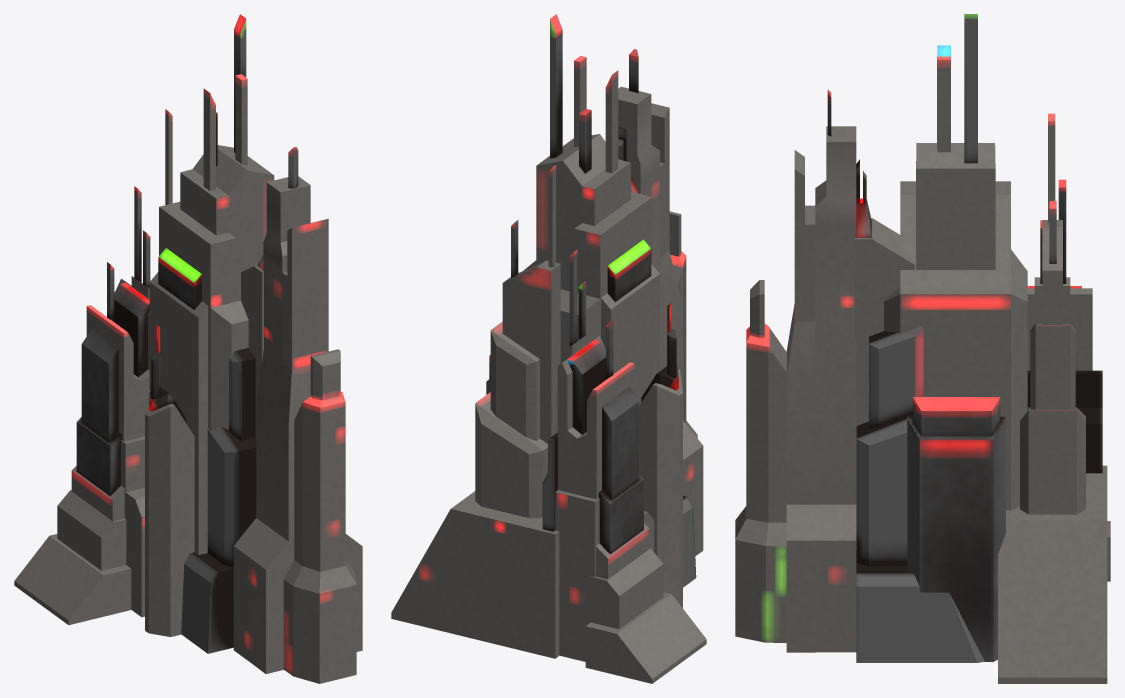
Rendered from SM_BackgroundBuilding_025.fbx.
3 views of the same model, side by side, from view 1: azimuth 30°, elevation 25°; view 2: azimuth 150°, elevation 25°; view 3: azimuth 270°, elevation 25° (orthographic). The views are drawn at different scales.
Visible parts, largest first — view 1: SM_BackgroundBuilding_025_LOD0; view 2: SM_BackgroundBuilding_025_LOD0; view 3: SM_BackgroundBuilding_025_LOD0.
Part boxes in pixels (box(x1,y1,x2,y2)): SM_BackgroundBuilding_025_LOD0: box(14, 14, 362, 683); SM_BackgroundBuilding_025_LOD0: box(391, 14, 706, 683); SM_BackgroundBuilding_025_LOD0: box(735, 14, 1110, 683).
Bounding box in the file's own units: 2208 × 2562 × 4675.
Materials: 1 (1 with a texture image).
